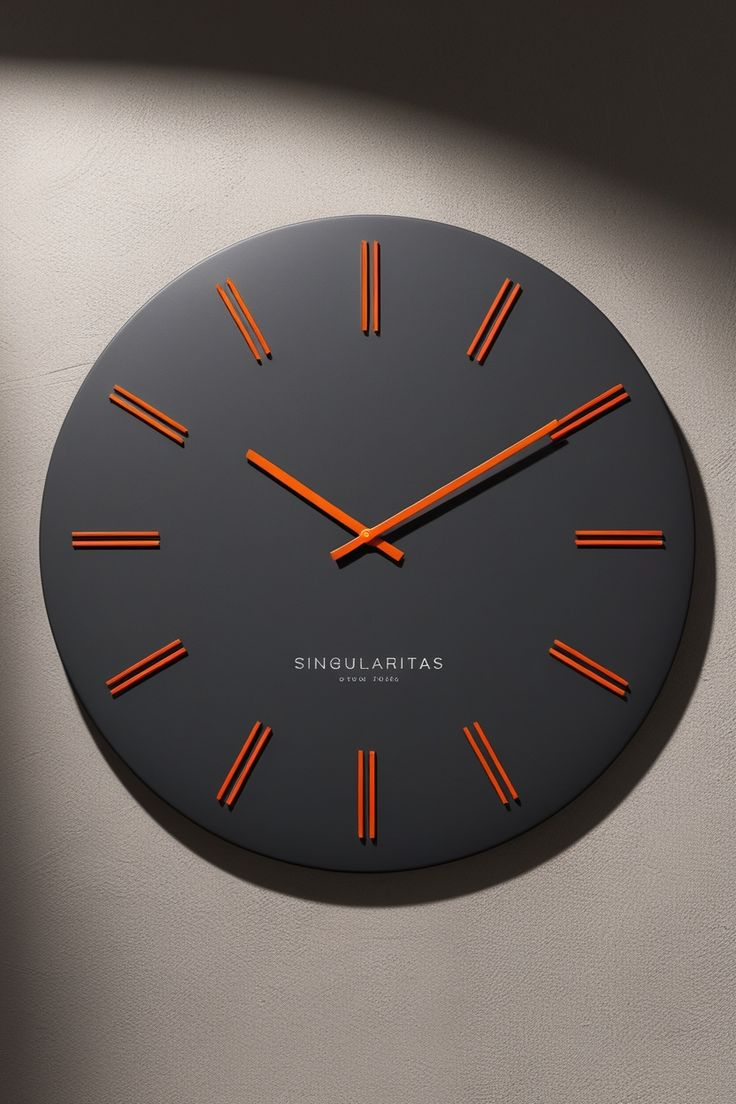clock: (42, 194, 725, 907)
